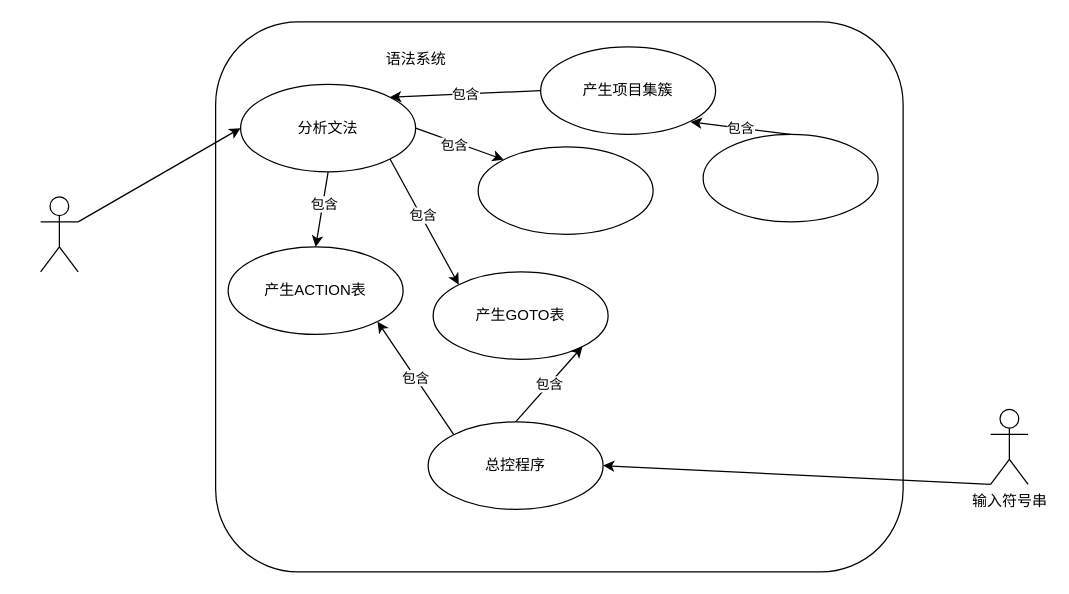
Image size: 1069x594. Some labels were removed from this diagram. The shapes that lost their labels are listed below. From the top down, each one's centre as x and y in pixels, then its label:
At (x=565, y=190): "产生DFA".
At (x=790, y=177): "产生项目集".
At (x=58, y=234): "输入的文法".
